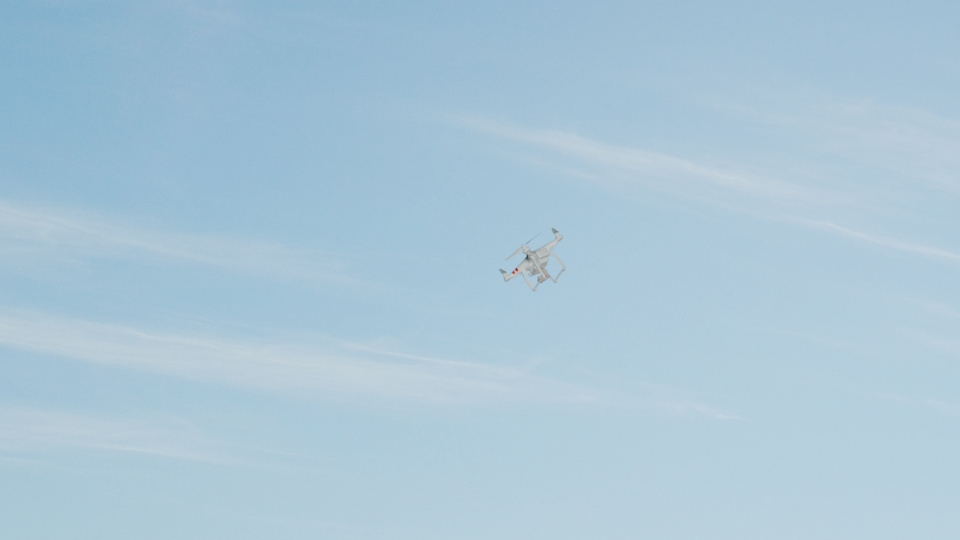drone: (497, 228, 567, 285)
